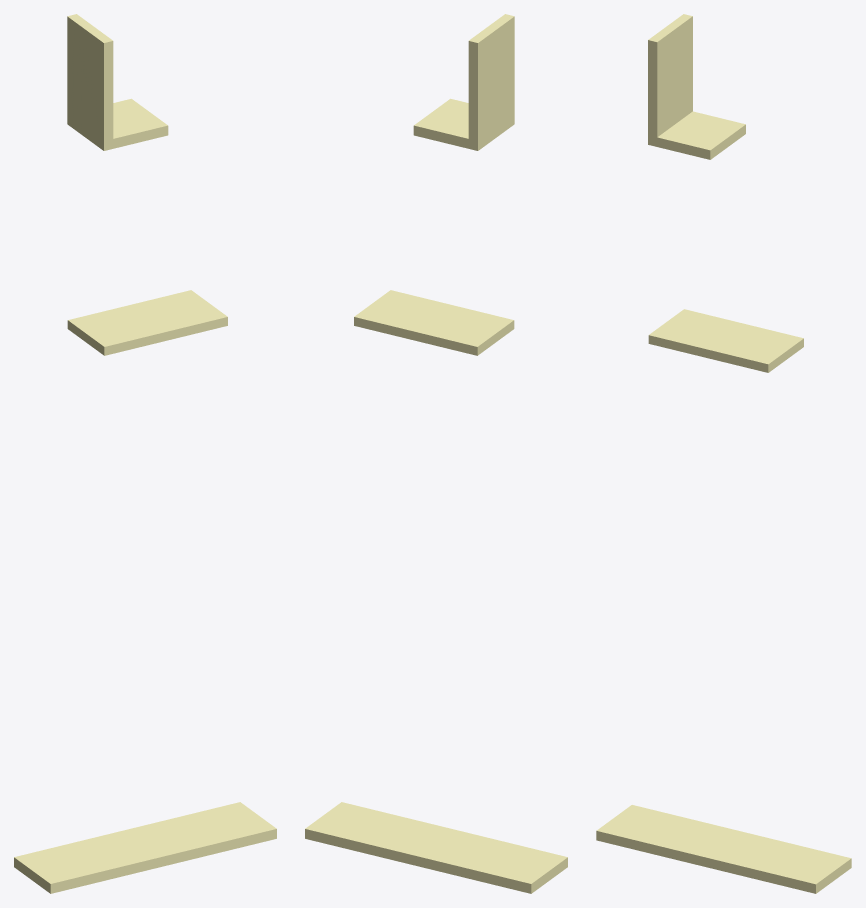
3 views of the same model, side by side, from view 1: azimuth 30°, elevation 25°; view 2: azimuth 150°, elevation 25°; view 3: azimuth 330°, elevation 25° (orthographic). The views are drawn at different scales.
Visible parts, largest first — view 1: Wall_8__10_, Wall_8__2_, Wall__11_, Wall_8__8_; view 2: Wall_8__10_, Wall_8__2_, Wall__11_, Wall_8__8_; view 3: Wall_8__10_, Wall_8__2_, Wall__11_, Wall_8__8_.
Part boxes in pixels (x1=…): Wall_8__10_: x1=14, y1=802, x2=276, y2=893; Wall_8__2_: x1=67, y1=290, x2=227, y2=355; Wall__11_: x1=67, y1=14, x2=113, y2=148; Wall_8__8_: x1=67, y1=98, x2=168, y2=150; Wall_8__10_: x1=305, y1=802, x2=567, y2=893; Wall_8__2_: x1=354, y1=290, x2=514, y2=355; Wall__11_: x1=468, y1=14, x2=514, y2=148; Wall_8__8_: x1=413, y1=98, x2=514, y2=150; Wall_8__10_: x1=596, y1=805, x2=851, y2=893; Wall_8__2_: x1=648, y1=309, x2=803, y2=372; Wall__11_: x1=648, y1=14, x2=692, y2=137; Wall_8__8_: x1=648, y1=111, x2=745, y2=159.
Bounding box in the file's own units: 382 × 1351 × 107.
